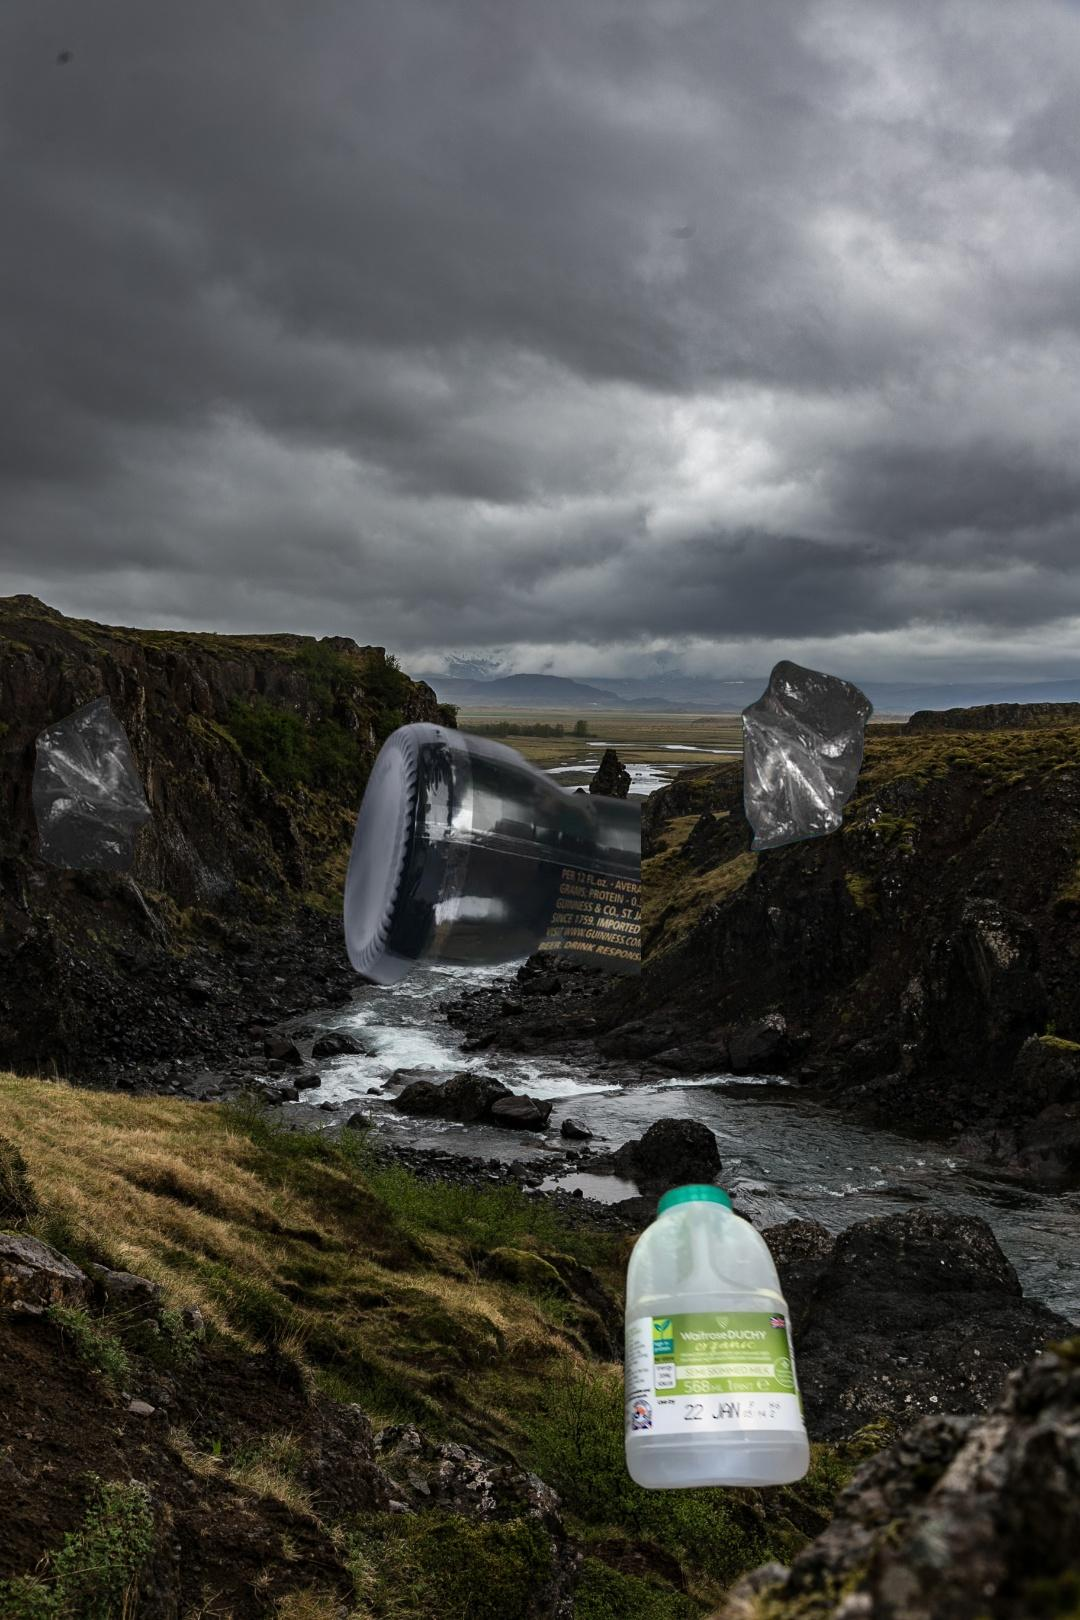glass: (338, 719, 641, 1020)
plastic-bag: (738, 658, 876, 854), (29, 693, 155, 874)
plastic-bottles: (618, 1177, 815, 1496)
